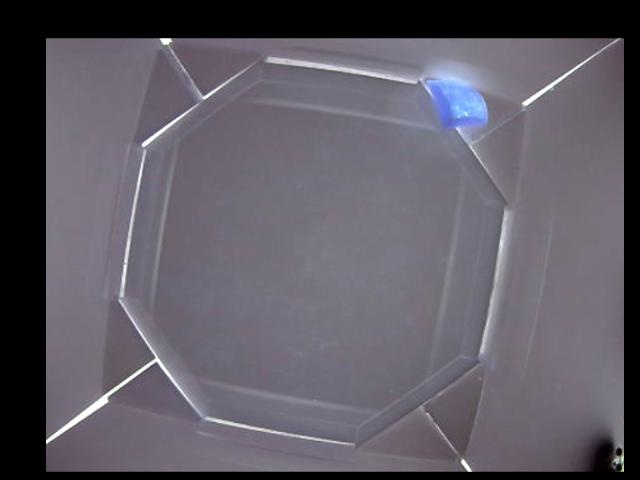Potato: (425, 79, 488, 125)
